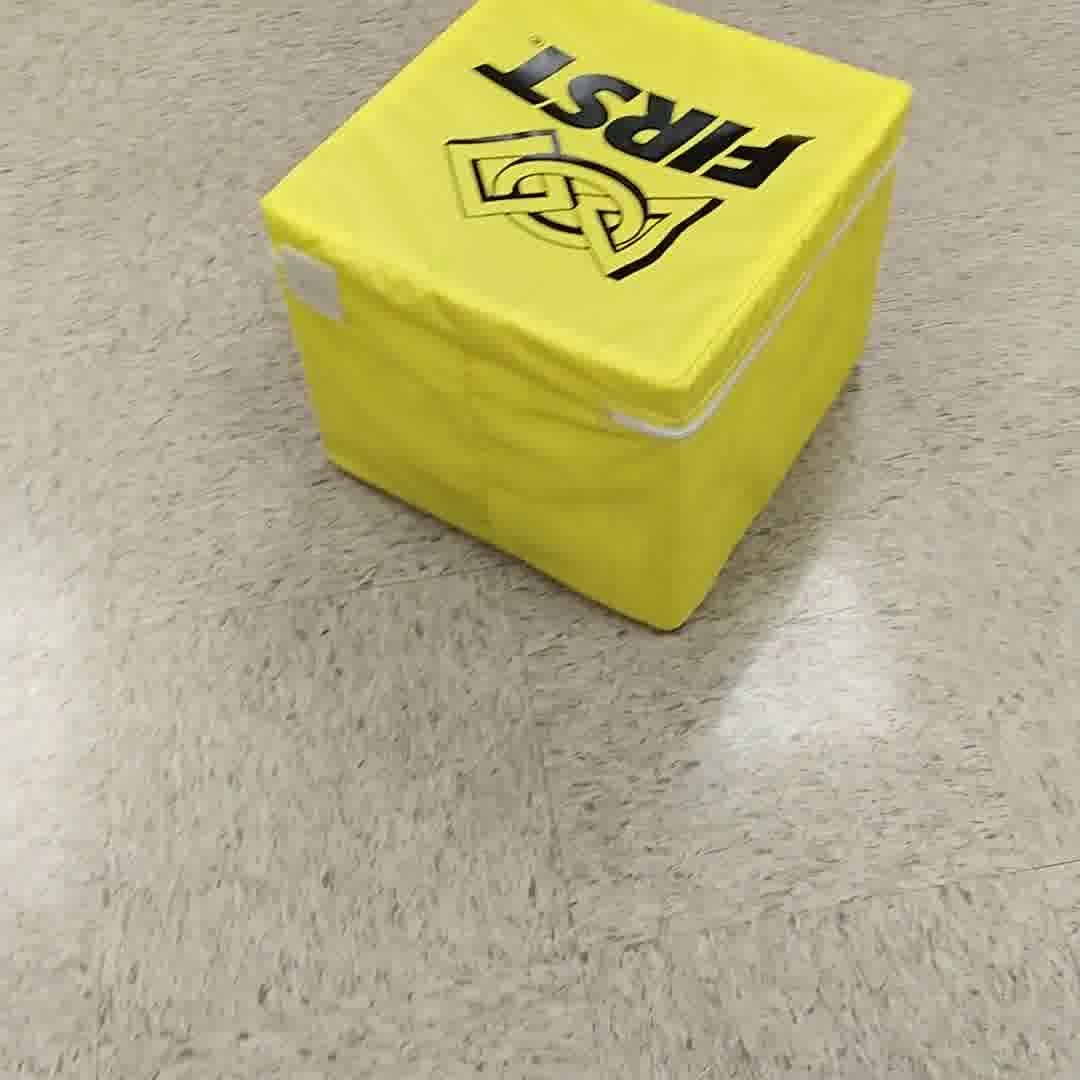box: (251, 1, 928, 641)
